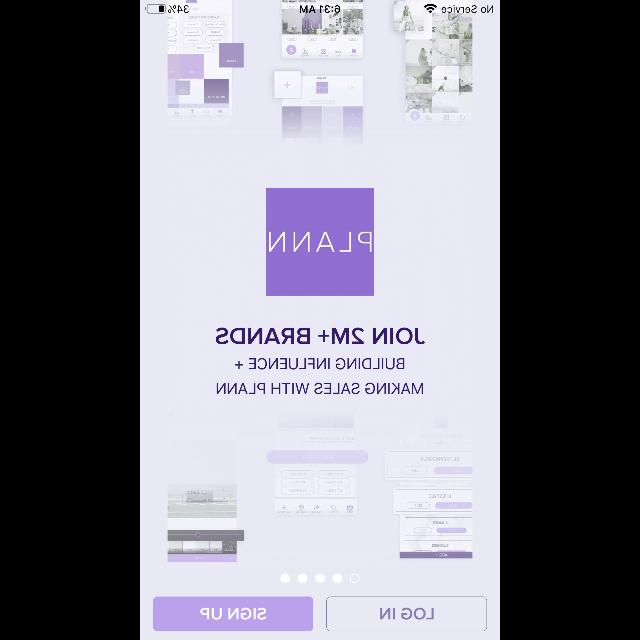backgroundimage: (140, 1, 500, 640)
image: (266, 188, 374, 296)
pageindicator: (280, 574, 360, 582)
text: (216, 328, 424, 344), (217, 382, 423, 393), (236, 358, 404, 369)
textbutton: (327, 596, 487, 632), (153, 597, 313, 631)
uppertaskbar: (140, 0, 500, 14)
